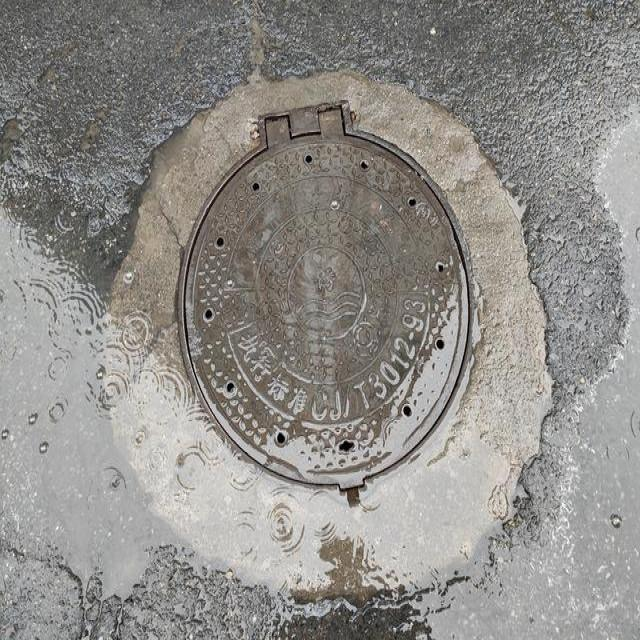manhole: (179, 104, 471, 488)
